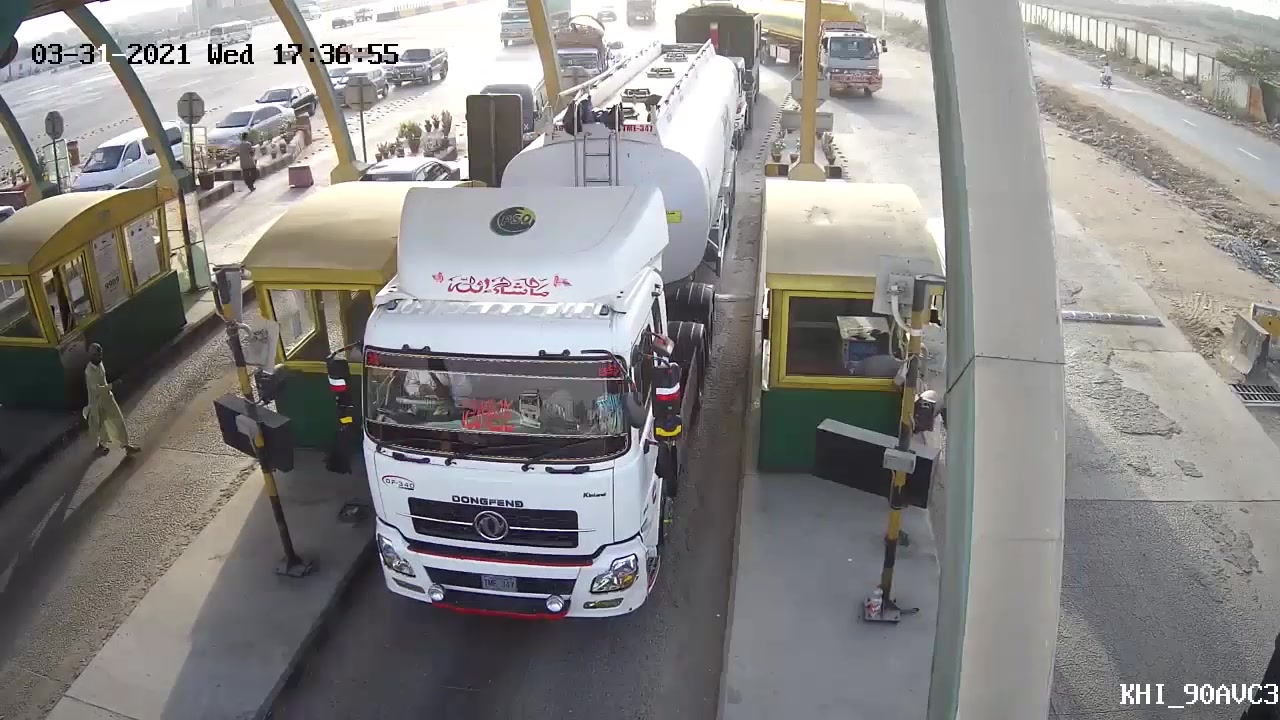F6: (344, 32, 764, 642)
